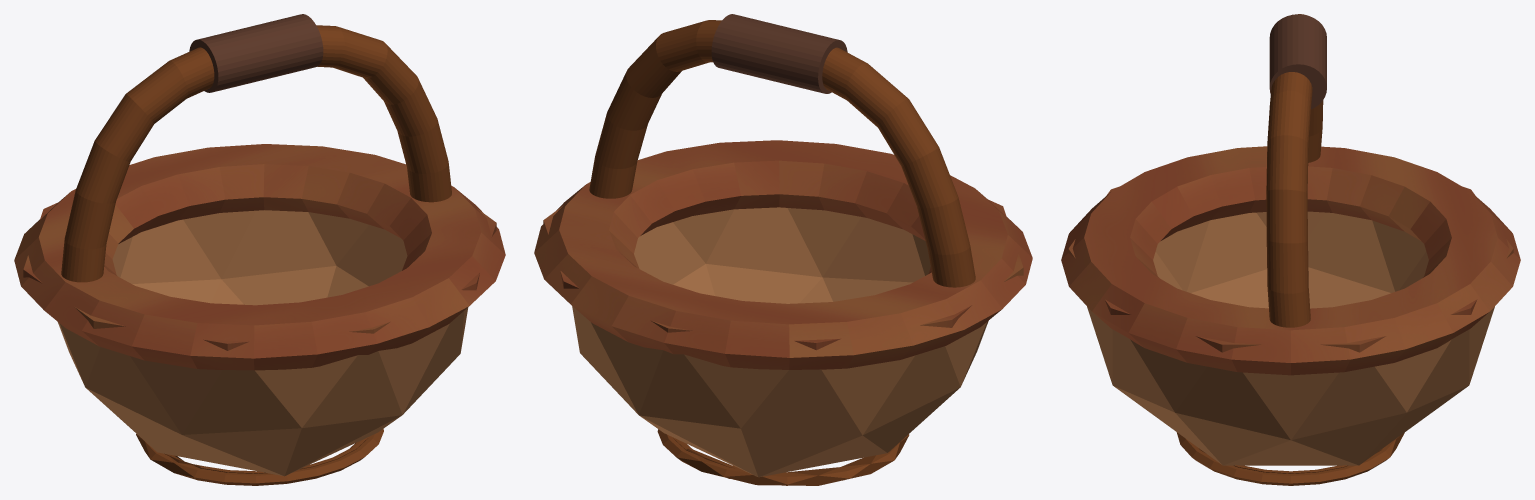
The model's file is basket_4.fbx.
The picture shows the model from 3 angles, left to right: view 1: azimuth 30°, elevation 25°; view 2: azimuth 150°, elevation 25°; view 3: azimuth 270°, elevation 25°; orthographic projection. The views are drawn at different scales.
Visible parts, largest first — view 1: Basket.001; view 2: Basket.001; view 3: Basket.001.
Part boxes in pixels (left/top/right/bottom): Basket.001: left=14, top=14, right=505, bottom=485; Basket.001: left=534, top=14, right=1032, bottom=485; Basket.001: left=1061, top=14, right=1520, bottom=485.
Bounding box in the file's own units: 405 × 365 × 382.
Materials: 4 (1 with a texture image).
